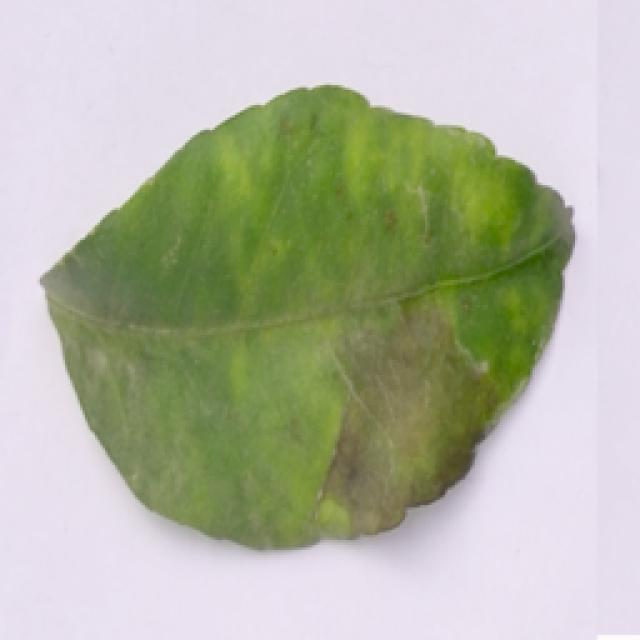blackspot: (30, 70, 582, 557)
